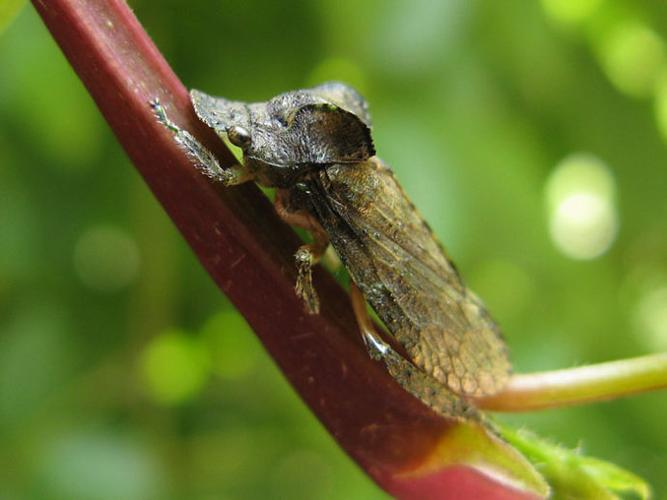Cicadellidae: (145, 85, 508, 420)
